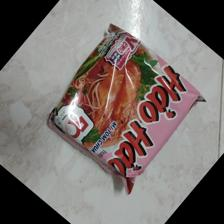Haohao: (45, 22, 209, 197)
